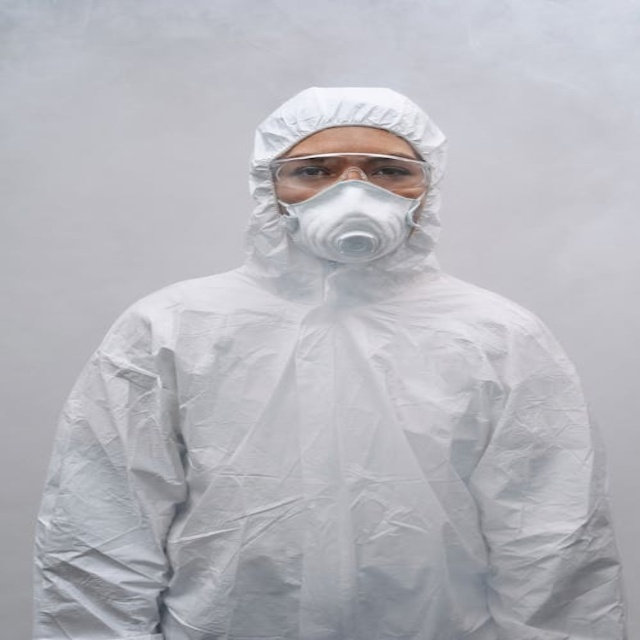Gafas: (269, 152, 433, 205)
Mascara: (279, 169, 424, 263)
